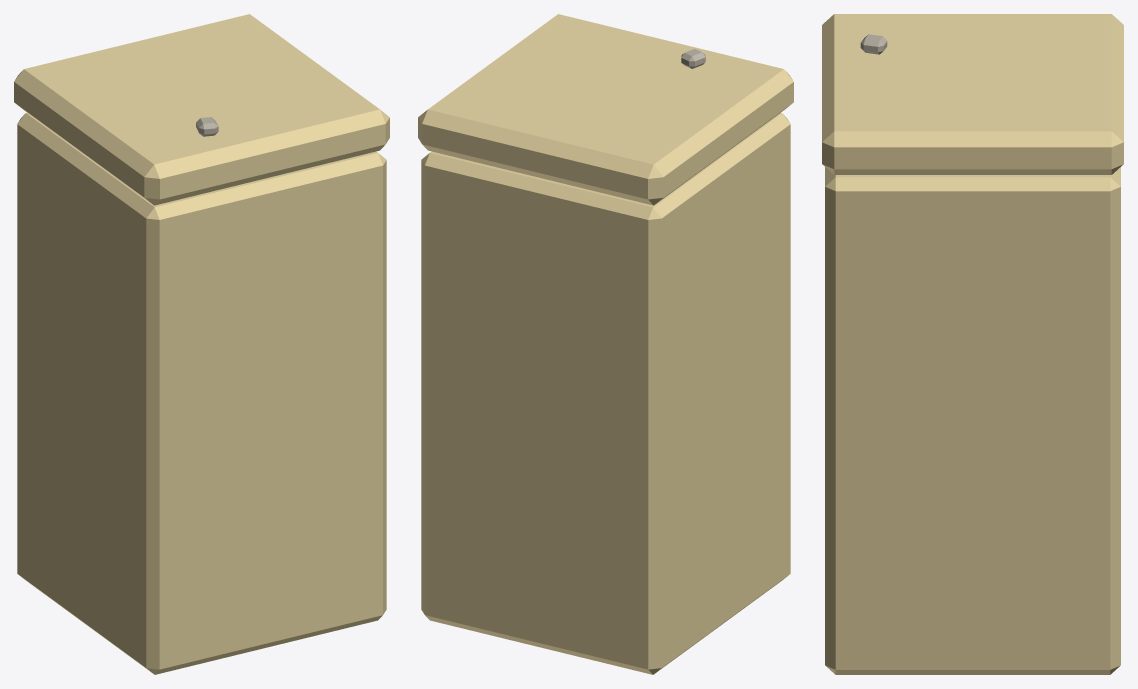
File: column-sea-1.glb
3 views of the same model, side by side, from view 1: azimuth 30°, elevation 25°; view 2: azimuth 150°, elevation 25°; view 3: azimuth 270°, elevation 25° (orthographic). The views are drawn at different scales.
Parts seen in each view (by area): view 1: column-sea-1; view 2: column-sea-1; view 3: column-sea-1.
Part boxes in pixels (x1,y1,x2,y2): column-sea-1: (14,14,389,674); column-sea-1: (418,14,793,674); column-sea-1: (822,14,1123,674).
Bounding box in the file's own units: 1 × 2.04 × 1.
